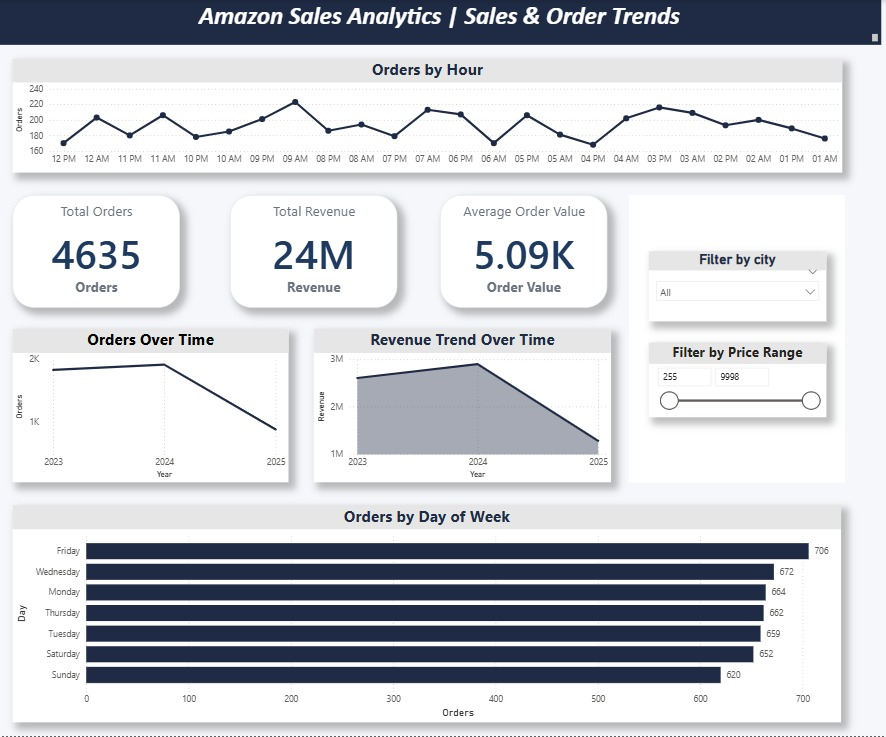

This screenshot's page, from the dashboard's own definition file:
{"tool":"powerbi","page":{"name":"Sales & Order Trends Analysis","canvas":[1240,1024],"ordinal":2},"visuals":[{"type":"shape","box":[881.7,271.3,300.9,400],"z":0},{"type":"textbox","title":"Amazon Sales Analytics | Sales & Order Trends","box":[0,0,1240,62.6],"z":1000},{"type":"card","title":"Total Orders","fields":{"Values":["customers.Total_orders"]},"box":[24.3,271.3,233,156.5],"z":2000},{"type":"card","title":"Total Revenue","fields":{"Values":["customers.total_revenue"]},"box":[327,271.3,233,156.5],"z":3000},{"type":"card","title":"Average Order Value ","fields":{"Values":["customers.Avg Order Value"]},"box":[619.1,271.3,233,156.5],"z":4000},{"type":"lineChart","title":"Orders Over Time","fields":{"Category":["orders.order_date.Variation.Date Hierarchy.Year","orders.order_date.Variation.Date Hierarchy.Quarter","orders.order_date.Variation.Date Hierarchy.Month","orders.order_date.Variation.Date Hierarchy.Day"],"Y":["CountNonNull(orders.oid)"]},"box":[24.3,457.4,384.3,213.9],"z":5000},{"type":"areaChart","title":"Revenue Trend Over Time","fields":{"Category":["orders.order_date.Variation.Date Hierarchy.Year","orders.order_date.Variation.Date Hierarchy.Quarter","orders.order_date.Variation.Date Hierarchy.Month","orders.order_date.Variation.Date Hierarchy.Day"],"Y":["customers.Revenue"]},"box":[443.5,457.4,413.9,213.9],"z":6000},{"type":"clusteredBarChart","title":"Orders by Day of Week","fields":{"Category":["orders.Day"],"Y":["CountNonNull(orders.oid)"]},"box":[24.3,702.6,1153,302.6],"z":7000},{"type":"lineChart","title":"Orders by Hour","fields":{"Y":["CountNonNull(orders.oid)"],"Category":["orders.Hour Label"]},"box":[43.5,81.7,1154.8,158.3],"z":8000},{"type":"slicer","title":"Filter by city","fields":{"Values":["customers.city"]},"box":[909.6,349.6,247,97.4],"z":9000},{"type":"slicer","title":"Filter  by Price Range","fields":{"Values":["products.price"]},"box":[909.6,476.5,247,104.3],"z":10000}]}

Visuals, with their boxes in screenshot pixels (x1, y1, x2, y2), scaled from the page's 1240x1024 canvas onto the 886x737 screenshot:
shape: crop(630, 195, 845, 483)
"Amazon Sales Analytics | Sales & Order Trends" textbox: crop(0, 0, 885, 45)
"Total Orders" card: crop(17, 195, 184, 308)
"Total Revenue" card: crop(234, 195, 400, 308)
"Average Order Value " card: crop(442, 195, 609, 308)
"Orders Over Time" lineChart: crop(17, 329, 292, 483)
"Revenue Trend Over Time" areaChart: crop(317, 329, 613, 483)
"Orders by Day of Week" clusteredBarChart: crop(17, 506, 841, 723)
"Orders by Hour" lineChart: crop(31, 59, 856, 173)
"Filter by city" slicer: crop(650, 252, 826, 322)
"Filter  by Price Range" slicer: crop(650, 343, 826, 418)
